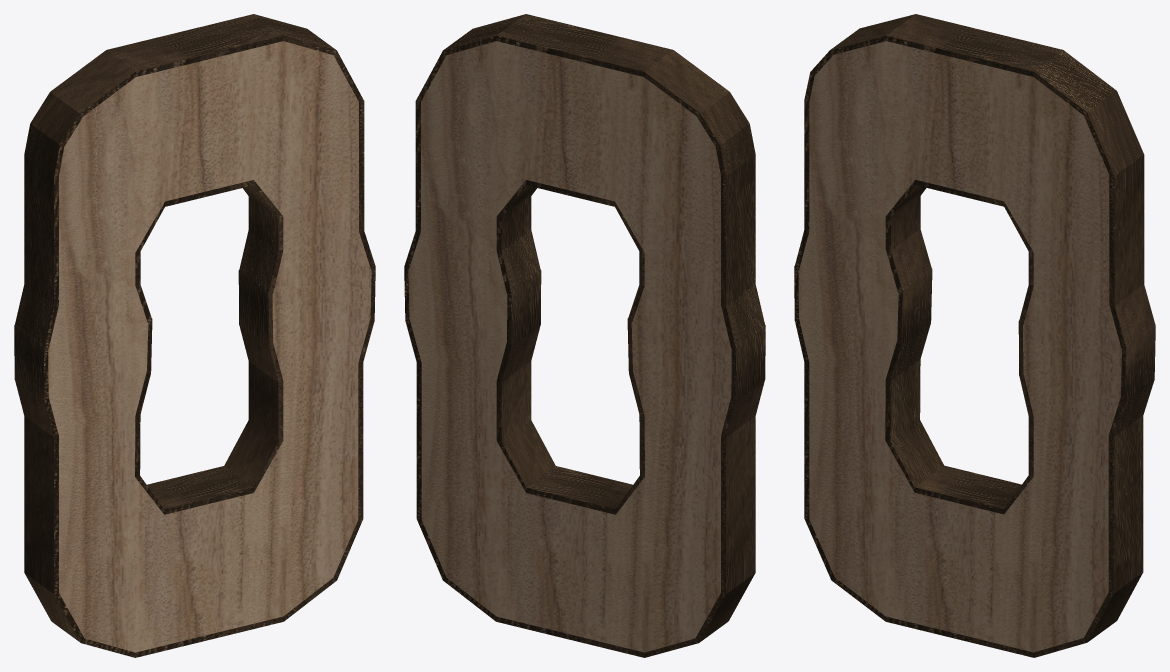
3 views of the same model, side by side, from view 1: azimuth 30°, elevation 25°; view 2: azimuth 150°, elevation 25°; view 3: azimuth 330°, elevation 25° (orthographic).
Parts seen in each view (by area): view 1: 0, 0_outline; view 2: 0, 0_outline; view 3: 0, 0_outline.
Part boxes in pixels (x1,y1,x2,y2): 0: (48,41,371,652); 0_outline: (14,14,375,657); 0: (408,41,731,652); 0_outline: (404,14,765,657); 0: (798,41,1121,652); 0_outline: (794,14,1155,657).
Size of the model in its own units: 64.57 by 109 by 10.
Materials: 2 (2 with a texture image).
